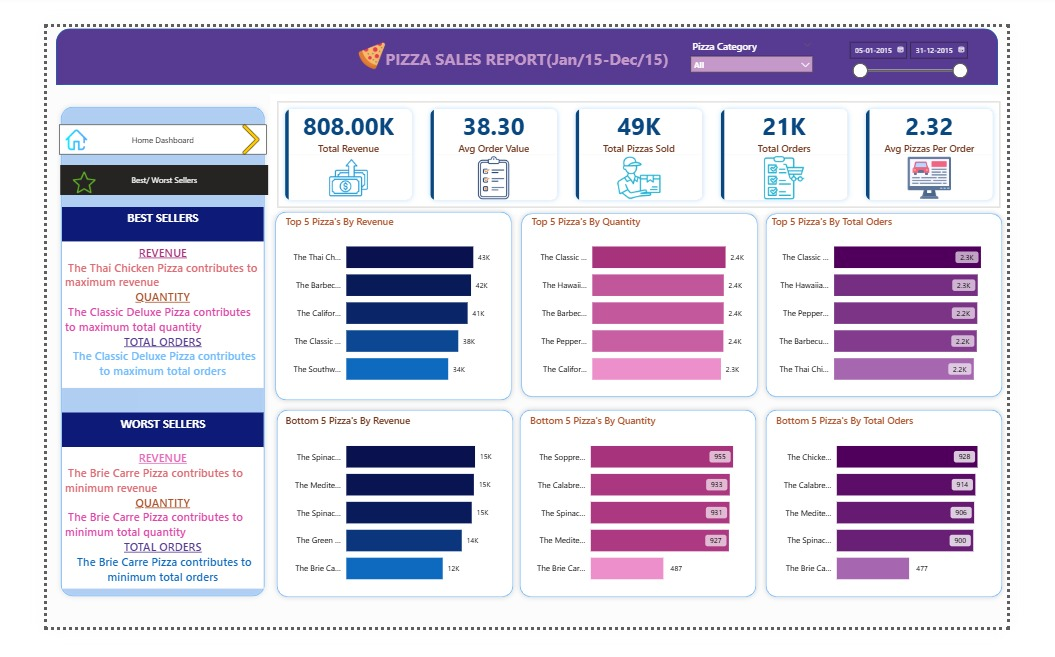

What the dashboard file says about the page in this screenshot:
{"tool":"powerbi","page":{"name":"Best/ Worst Sellers","canvas":[1600,1000],"ordinal":1},"visuals":[{"type":"cardVisual","fields":{"Data":["pizza_sales.Total Revenue","pizza_sales.Avg Order Value","pizza_sales.Total Pizzas Sold","pizza_sales.Total Orders","pizza_sales.Avg Pizzas Per Order"]},"box":[372,112,1228,200],"z":0},{"type":"shape","box":[16,2,1570,94],"z":1000},{"type":"textbox","box":[150,378,202,62],"z":2000},{"type":"textbox","box":[150,549,202,150],"z":3000},{"type":"image","box":[514,26,52,46],"z":4000},{"type":"shape","box":[372,300,410,330],"z":5000},{"type":"shape","box":[16,126,356,832],"z":6000},{"type":"textbox","box":[26,300,336,58],"z":7000},{"type":"textbox","box":[26,358,336,244],"z":8000},{"type":"textbox","box":[26,642,336,58],"z":9000},{"type":"textbox","box":[26,700,336,236],"z":10000},{"type":"slicer","fields":{"Values":["pizza_sales.pizza_category"]},"box":[1062,14,224,70],"z":11000},{"type":"slicer","fields":{"Values":["pizza_sales.order_date"]},"box":[1324,14,218,70],"z":12000},{"type":"shape","box":[782,302,410,322],"z":13000},{"type":"shape","box":[1190,302,410,322],"z":14000},{"type":"shape","box":[374,630,410,328],"z":15000},{"type":"shape","box":[780,630,410,328],"z":16000},{"type":"shape","box":[1190,630,410,328],"z":17000},{"type":"barChart","title":"Top 5 Pizza''s By Revenue","fields":{"Category":["pizza_sales.pizza_name"],"Y":["pizza_sales.Total Revenue"]},"box":[390,314,372,300],"z":18000},{"type":"barChart","title":"Bottom 5 Pizza''s By Revenue","fields":{"Category":["pizza_sales.pizza_name"],"Y":["pizza_sales.Total Revenue"]},"box":[392,644,372,300],"z":19000},{"type":"barChart","title":"Top 5 Pizza''s By Quantity","fields":{"Category":["pizza_sales.pizza_name"],"Y":["pizza_sales.Total Pizzas Sold"]},"box":[802,312,372,300],"z":20000},{"type":"barChart","title":"Top 5 Pizza''s By Total Oders","fields":{"Category":["pizza_sales.pizza_name"],"Y":["pizza_sales.Total Orders"]},"box":[1202,312,384,300],"z":21000},{"type":"barChart","title":"Bottom 5 Pizza''s By Quantity","fields":{"Category":["pizza_sales.pizza_name"],"Y":["pizza_sales.Total Pizzas Sold"]},"box":[800,644,374,300],"z":22000},{"type":"barChart","title":"Top 5 Pizza''s By Total Oders","fields":{"Category":["pizza_sales.pizza_name"],"Y":["pizza_sales.Total Orders"]},"box":[1210,644,372,300],"z":23000},{"type":"pageNavigator","box":[20,162,346,50],"z":24000},{"type":"pageNavigator","box":[22,230,346,50],"z":25000},{"type":"image","box":[26,170,48,36],"z":26000},{"type":"image","box":[316,162,50,50],"z":27000},{"type":"image","box":[16,240,94,38],"z":28000}]}

Visuals, with their boxes in screenshot pixels (x1, y1, x2, y2), scaled from the page's 1600x1000 canvas onto the 1055x657 screenshot:
cardVisual - pizza_sales.Total Revenue x pizza_sales.Avg Order Value: left=245, top=74, right=1054, bottom=205
shape: left=11, top=1, right=1046, bottom=63
textbox: left=99, top=248, right=232, bottom=289
textbox: left=99, top=361, right=232, bottom=459
image: left=339, top=17, right=373, bottom=47
shape: left=245, top=197, right=516, bottom=414
shape: left=11, top=83, right=245, bottom=629
textbox: left=17, top=197, right=239, bottom=235
textbox: left=17, top=235, right=239, bottom=396
textbox: left=17, top=422, right=239, bottom=460
textbox: left=17, top=460, right=239, bottom=615
slicer - pizza_sales.pizza_category: left=700, top=9, right=848, bottom=55
slicer - pizza_sales.order_date: left=873, top=9, right=1017, bottom=55
shape: left=516, top=198, right=786, bottom=410
shape: left=785, top=198, right=1054, bottom=410
shape: left=247, top=414, right=517, bottom=629
shape: left=514, top=414, right=785, bottom=629
shape: left=785, top=414, right=1054, bottom=629
"Top 5 Pizza''s By Revenue" barChart: left=257, top=206, right=502, bottom=403
"Bottom 5 Pizza''s By Revenue" barChart: left=258, top=423, right=504, bottom=620
"Top 5 Pizza''s By Quantity" barChart: left=529, top=205, right=774, bottom=402
"Top 5 Pizza''s By Total Oders" barChart: left=793, top=205, right=1046, bottom=402
"Bottom 5 Pizza''s By Quantity" barChart: left=528, top=423, right=774, bottom=620
"Top 5 Pizza''s By Total Oders" barChart: left=798, top=423, right=1043, bottom=620
pageNavigator: left=13, top=106, right=241, bottom=139
pageNavigator: left=15, top=151, right=243, bottom=184
image: left=17, top=112, right=49, bottom=135
image: left=208, top=106, right=241, bottom=139
image: left=11, top=158, right=73, bottom=183
